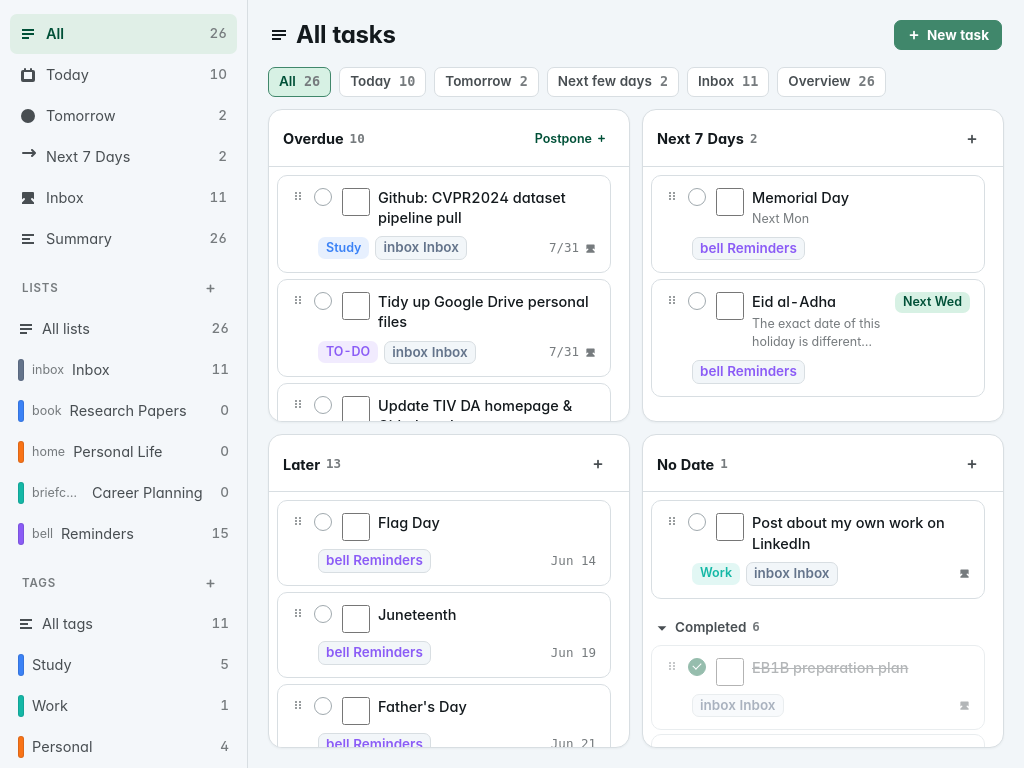
Test: TasksModule — T-COL-1 + button opens composer › T-COL-1: clicking + on a column with action===add opens the composer with that bucket pre-selected
Click the 1st button named "Add" at coordinates (972, 139), box x1=955 y1=122 x2=989 y2=156
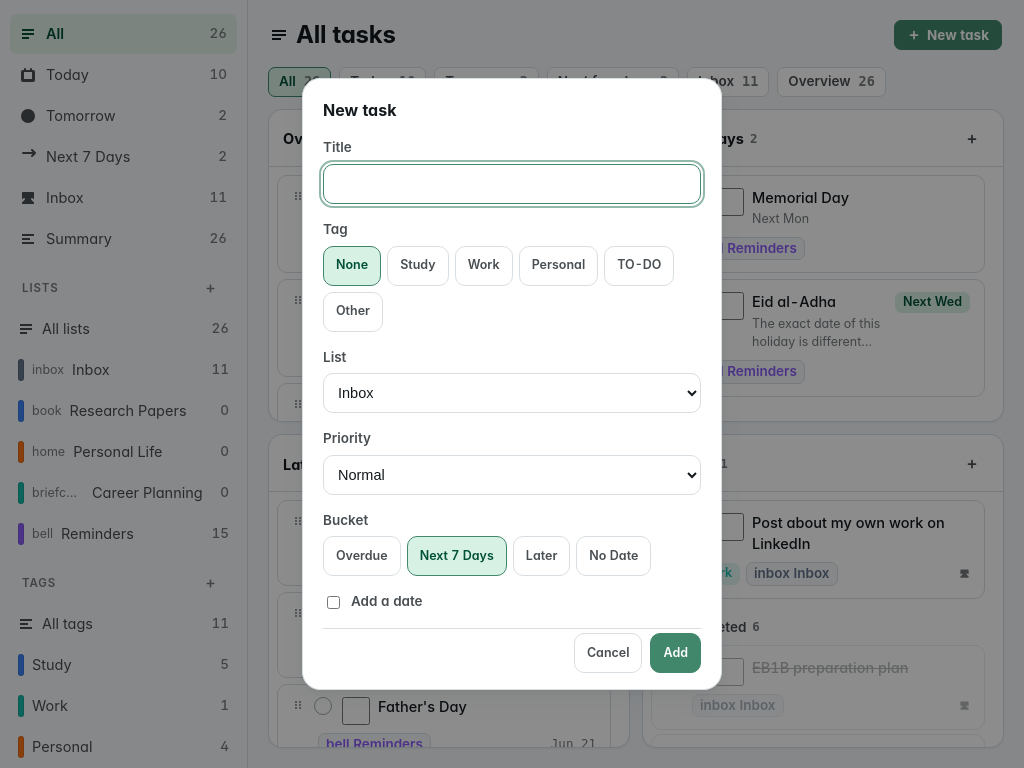
Now the dialog with class "task-composer" is shown, box x1=302 y1=78 x2=722 y2=690
